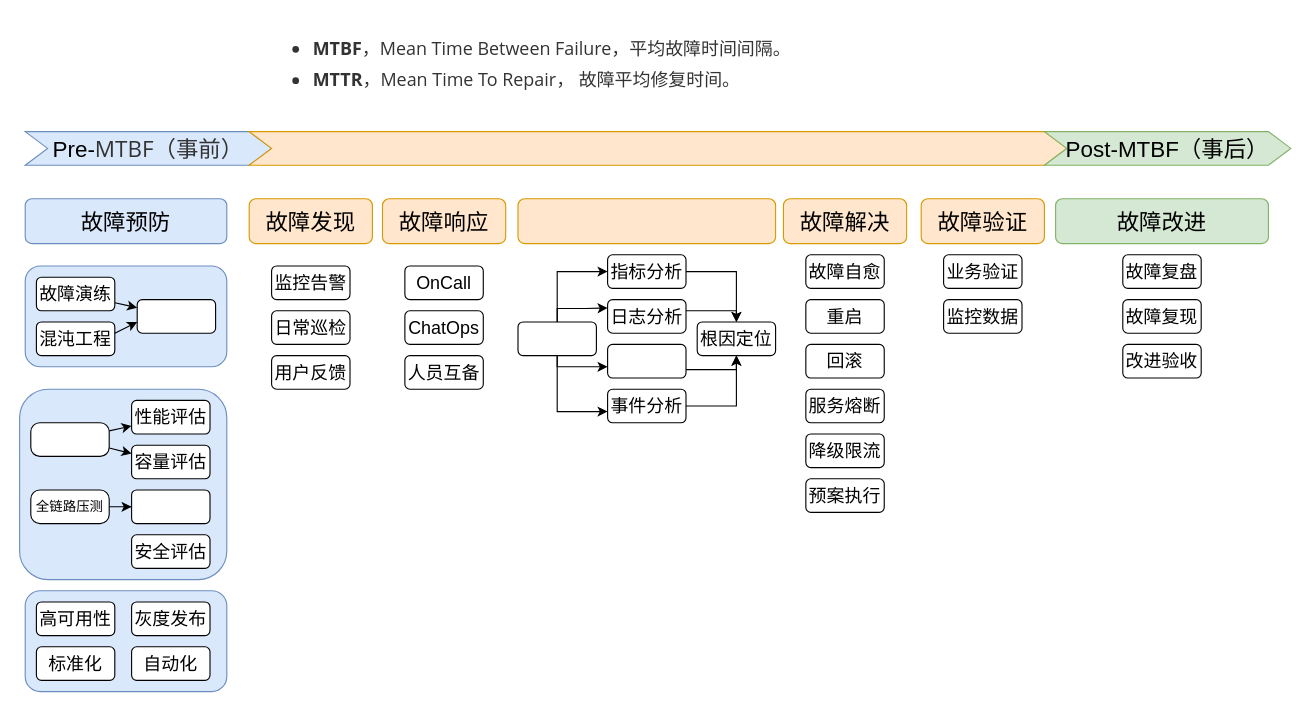
This 1310x711 diagram has some shape labels left out. Each missing label, with the centre of its shape:
"MTTR（事中）" goes at point 657,147.
"上下游压力评估" goes at point 170,506.
"压测" goes at point 69,439.
"可观测性" goes at point 556,338.
"故障定位" goes at point 646,221.
"链路分析" goes at point 646,360.
"预案建设" goes at point 176,315.
